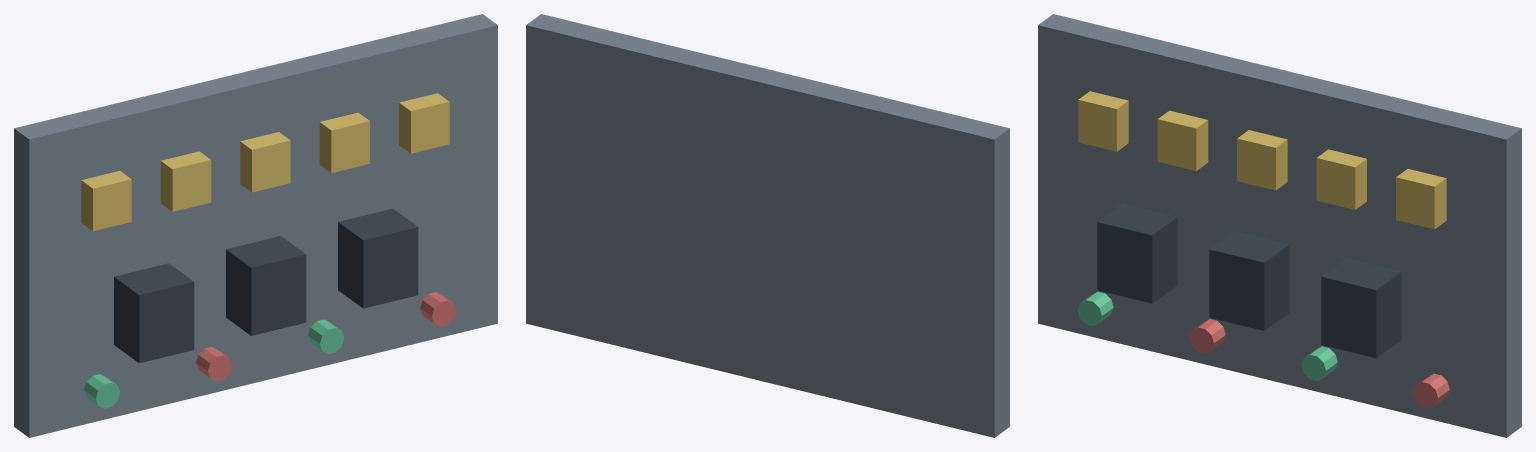
File: trainer.glb
The picture shows the model from 3 angles, left to right: view 1: azimuth 30°, elevation 25°; view 2: azimuth 150°, elevation 25°; view 3: azimuth 330°, elevation 25°; orthographic projection.
Visible parts, largest first — view 1: panel, relay0, relay2, relay1, fuse1, fuse0, fuse2, fuse3, fuse4, terminal3, terminal0, terminal2 (+1 smaller); view 2: panel; view 3: panel, relay2, relay0, relay1, fuse1, fuse2, fuse3, fuse4, fuse0, terminal0, terminal3, terminal1 (+1 smaller).
Part boxes in pixels (x1,y1,x2,y2): panel: [14, 14, 497, 437]; relay0: [114, 263, 194, 363]; relay2: [338, 208, 418, 308]; relay1: [226, 236, 306, 335]; fuse1: [160, 151, 211, 211]; fuse0: [81, 170, 131, 231]; fuse2: [240, 132, 290, 192]; fuse3: [319, 112, 369, 172]; fuse4: [399, 93, 449, 153]; terminal3: [420, 292, 456, 326]; terminal0: [84, 374, 120, 408]; terminal2: [308, 319, 344, 353]; panel: [526, 14, 1009, 437]; panel: [1038, 14, 1521, 437]; relay2: [1321, 258, 1401, 358]; relay0: [1097, 203, 1177, 303]; relay1: [1209, 231, 1289, 330]; fuse1: [1157, 110, 1208, 171]; fuse2: [1237, 130, 1287, 190]; fuse3: [1316, 149, 1366, 209]; fuse4: [1396, 169, 1446, 229]; fuse0: [1078, 91, 1128, 151]; terminal0: [1077, 291, 1113, 326]; terminal3: [1413, 373, 1449, 408]; terminal1: [1189, 319, 1225, 353].
Bounding box in the file's own units: 2.3 × 1.4 × 0.345.
